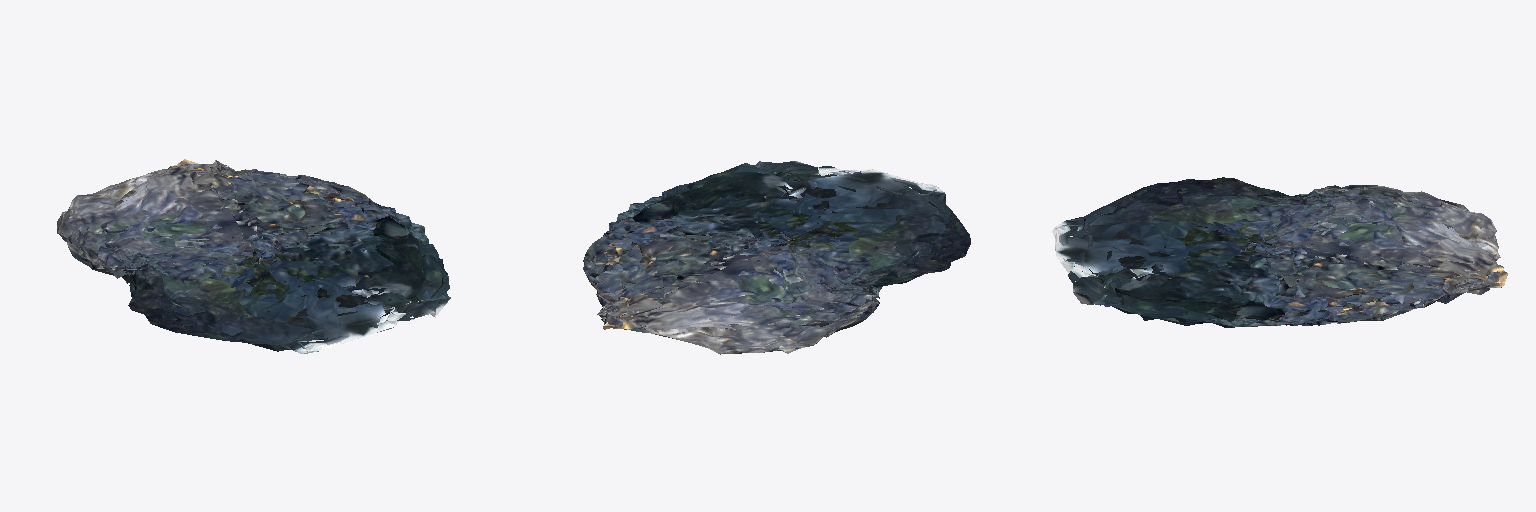
The picture shows the model from 3 angles: view 1: azimuth 30°, elevation 25°; view 2: azimuth 150°, elevation 25°; view 3: azimuth 270°, elevation 25°; orthographic projection.
Visible parts, largest first — view 1: Pickled_Zucchini_with_Pressed_Zucchini_avocado; view 2: Pickled_Zucchini_with_Pressed_Zucchini_avocado; view 3: Pickled_Zucchini_with_Pressed_Zucchini_avocado.
Part boxes in pixels (bbox=[...]): Pickled_Zucchini_with_Pressed_Zucchini_avocado: bbox=[57, 159, 450, 353]; Pickled_Zucchini_with_Pressed_Zucchini_avocado: bbox=[583, 161, 970, 354]; Pickled_Zucchini_with_Pressed_Zucchini_avocado: bbox=[1052, 177, 1507, 327].
Size of the model in its own units: 5.61 by 0.3769 by 7.25.
Materials: 1 (1 with a texture image).